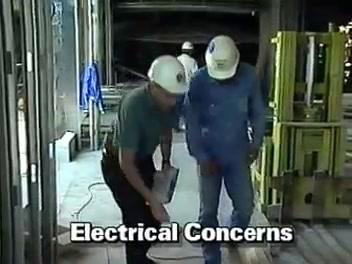helmet: (203, 35, 244, 82), (146, 55, 190, 97)
no -hi-vis jacket: (194, 68, 256, 163)
